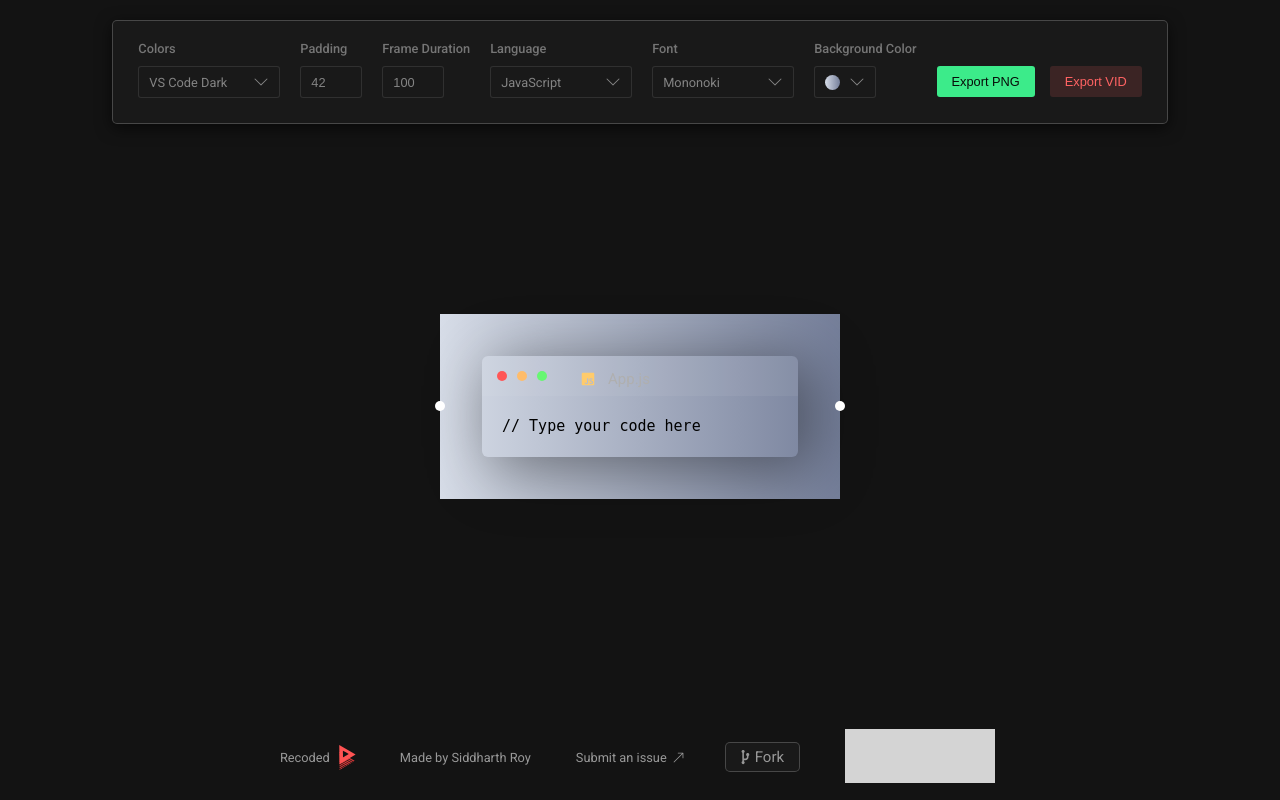
Scenario: App › updates language value
Click the element with test id "language-select" at [561, 82], box top-left (490, 66), bottom-right (632, 98)
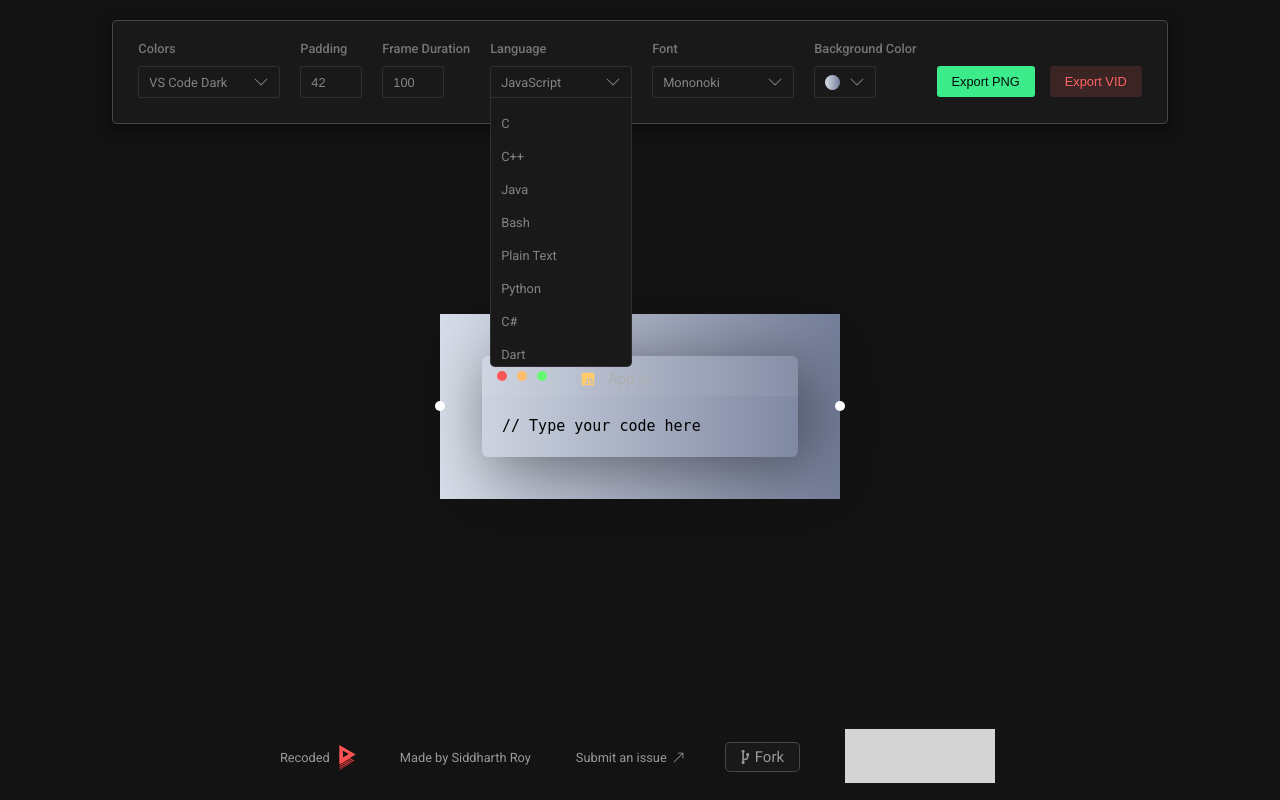
Click the text "Python" at [521, 288], box top-left (501, 281), bottom-right (541, 296)
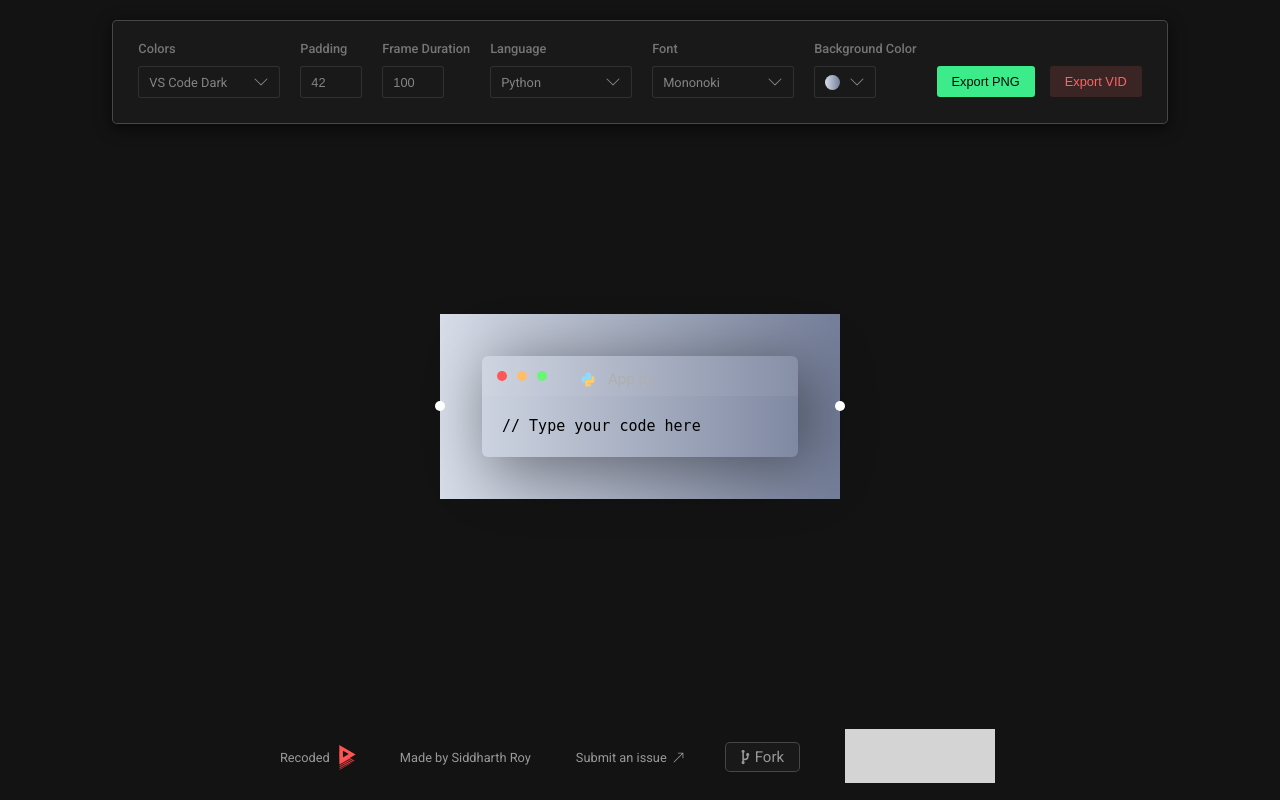
Check: the element with test id "language-select" reads "Python", box top-left (501, 74), bottom-right (541, 90)
